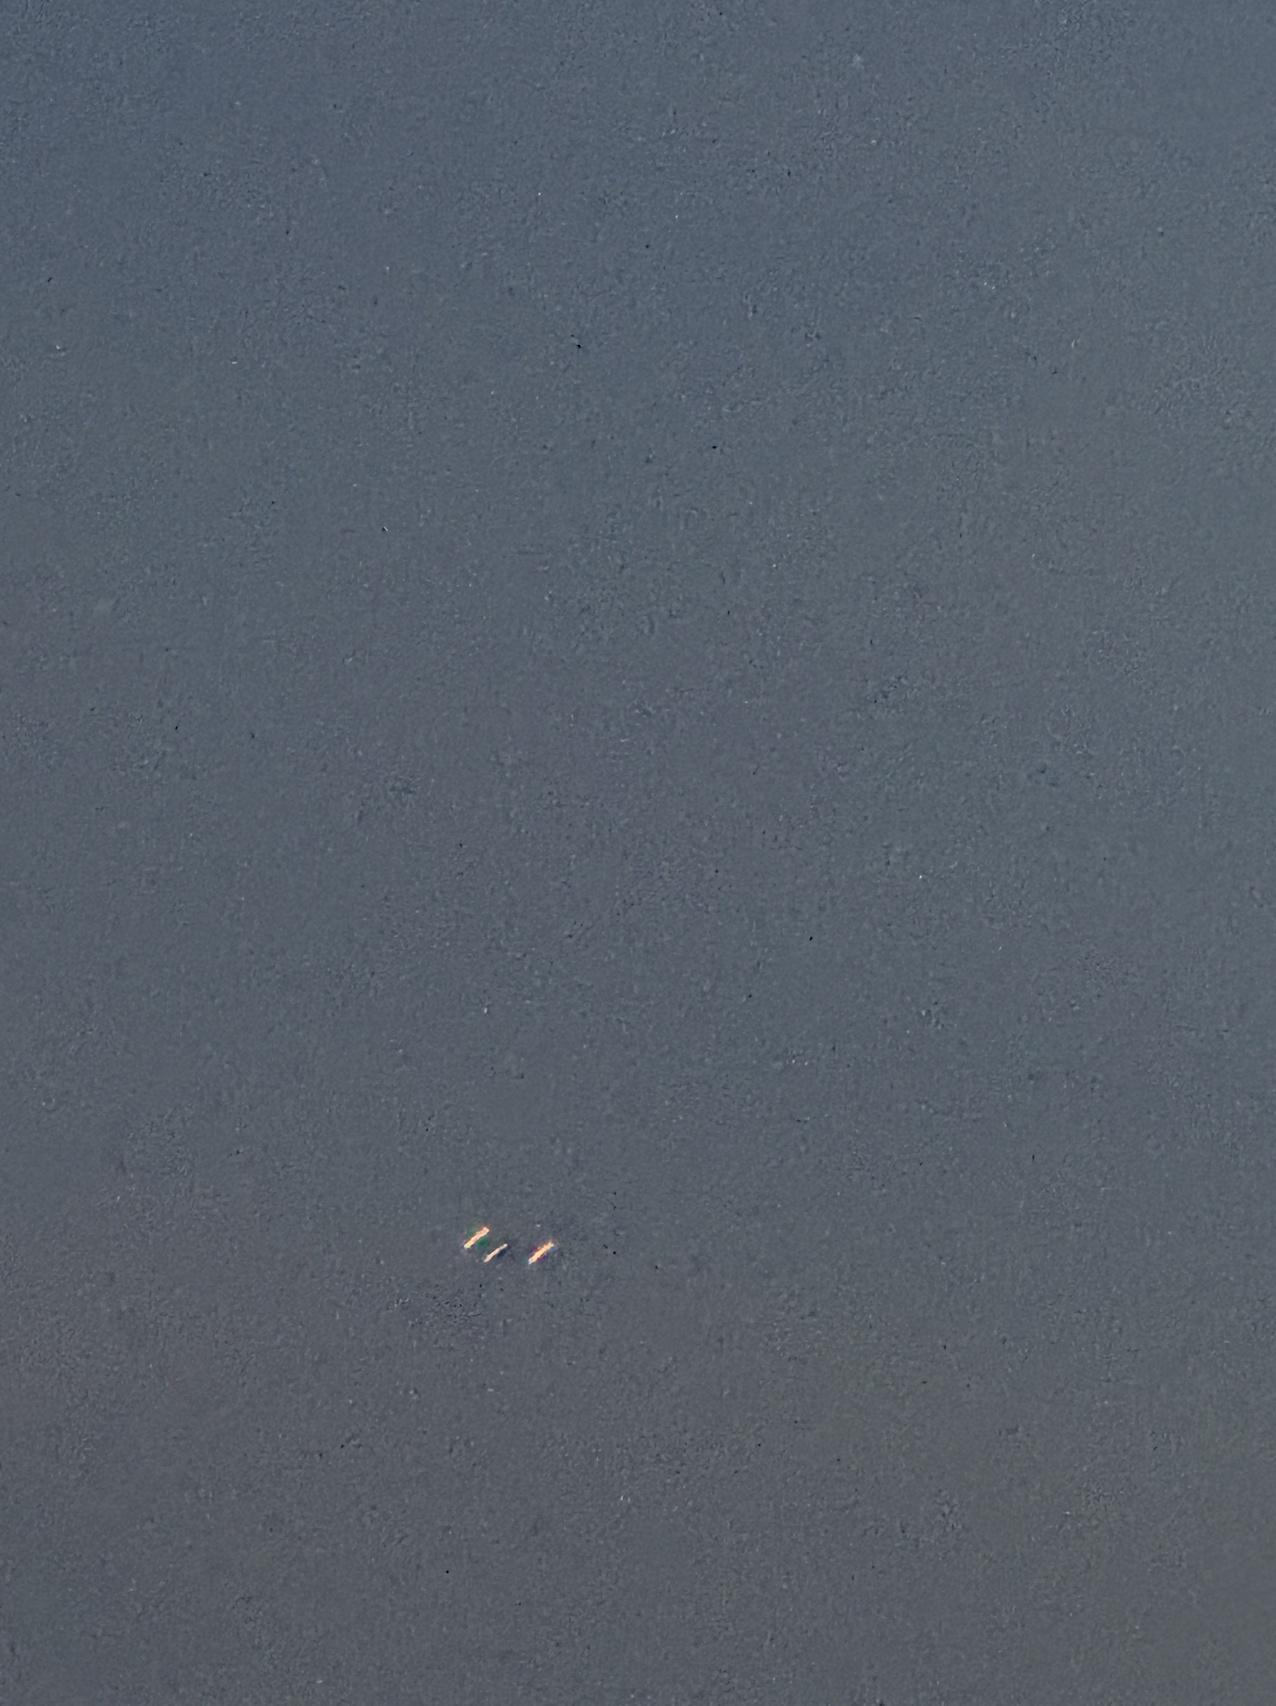Plane: (430, 1209, 592, 1281)
